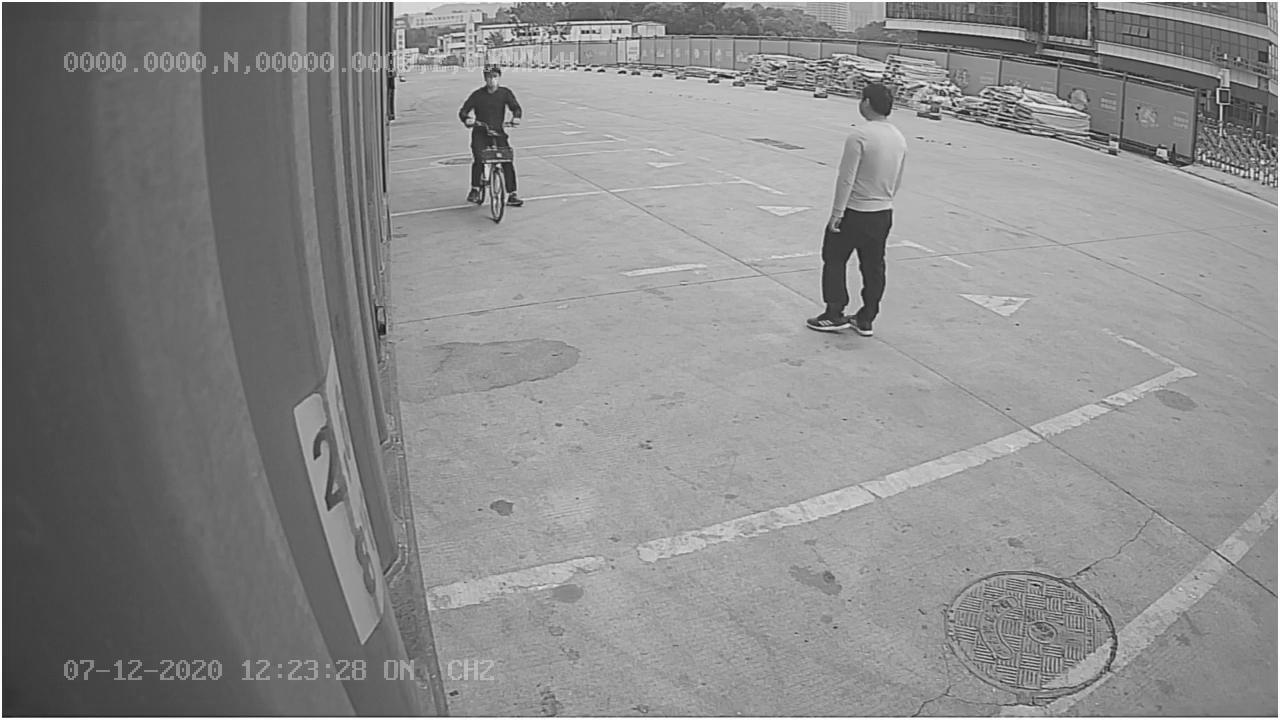person: (797, 81, 911, 342)
